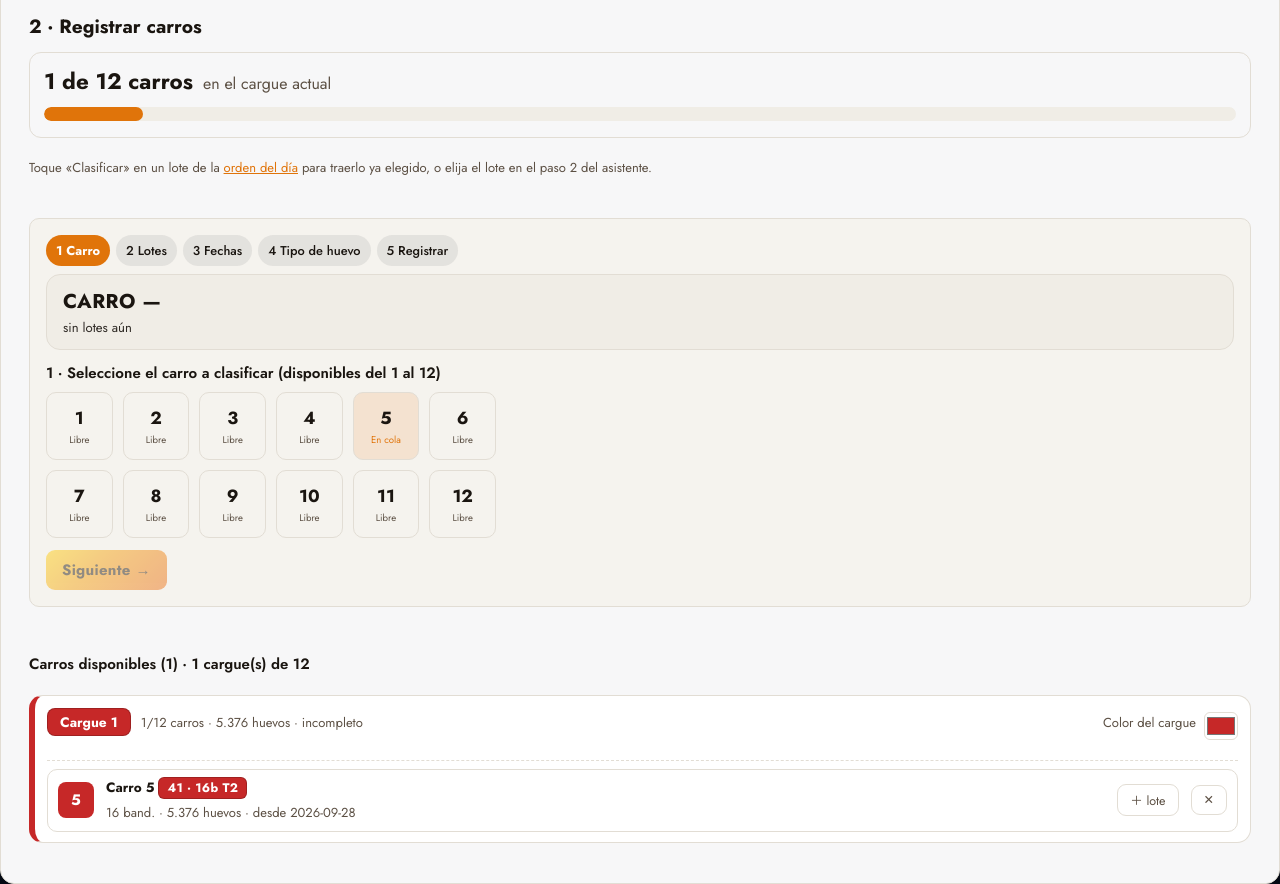
pantalla de clasificación del operario › borrar un carro pide confirmación clara y avisa si la base no lo deja
(page scrolled)
Click the button named "Borrar el carro 5" at (1209, 800), box top-left (1190, 786), bottom-right (1227, 816)
(page scrolled)
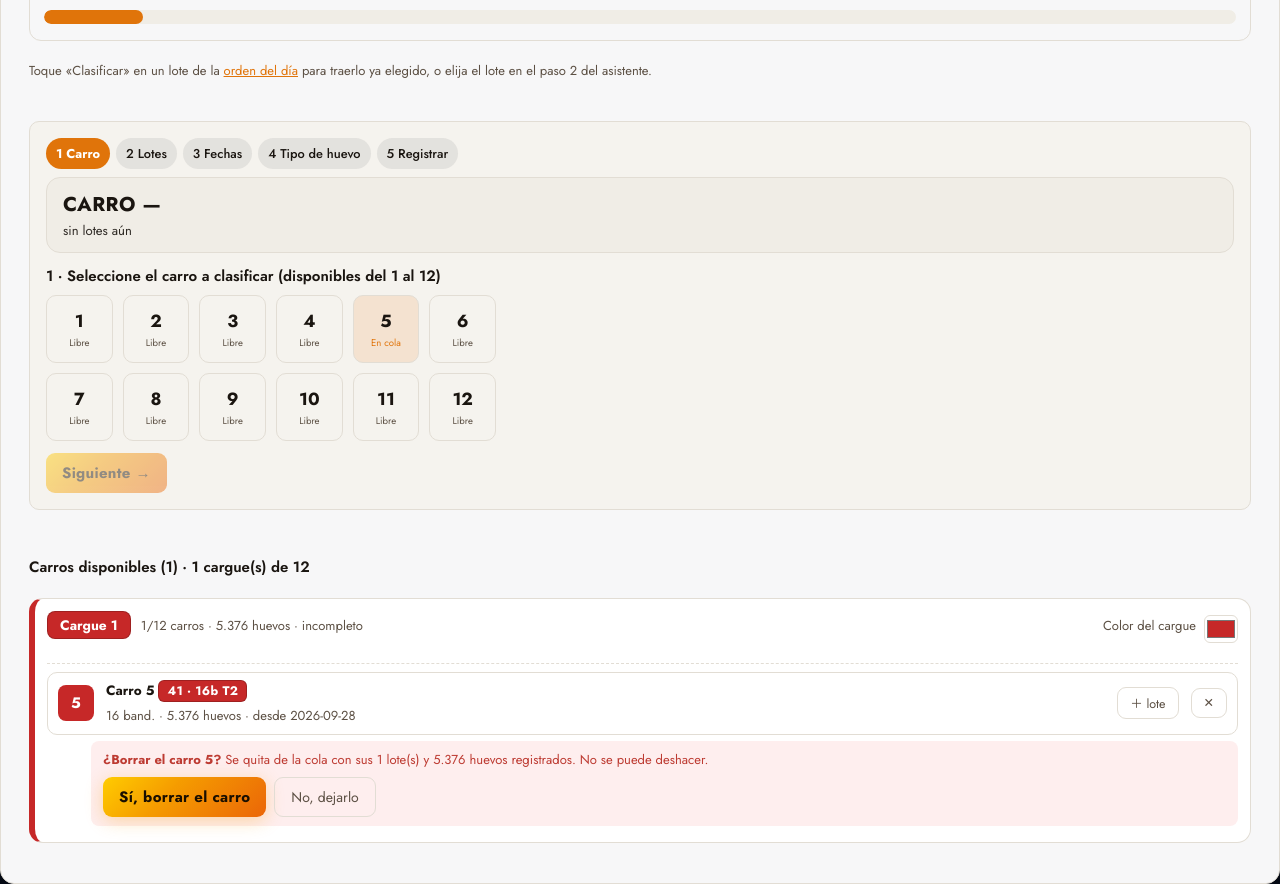
Check: the text "¿Borrar el carro 5?" is shown, box top-left (103, 750), bottom-right (221, 769)
Click the button "Sí, borrar el carro" at (185, 797), box top-left (103, 777), bottom-right (266, 817)
(page scrolled)
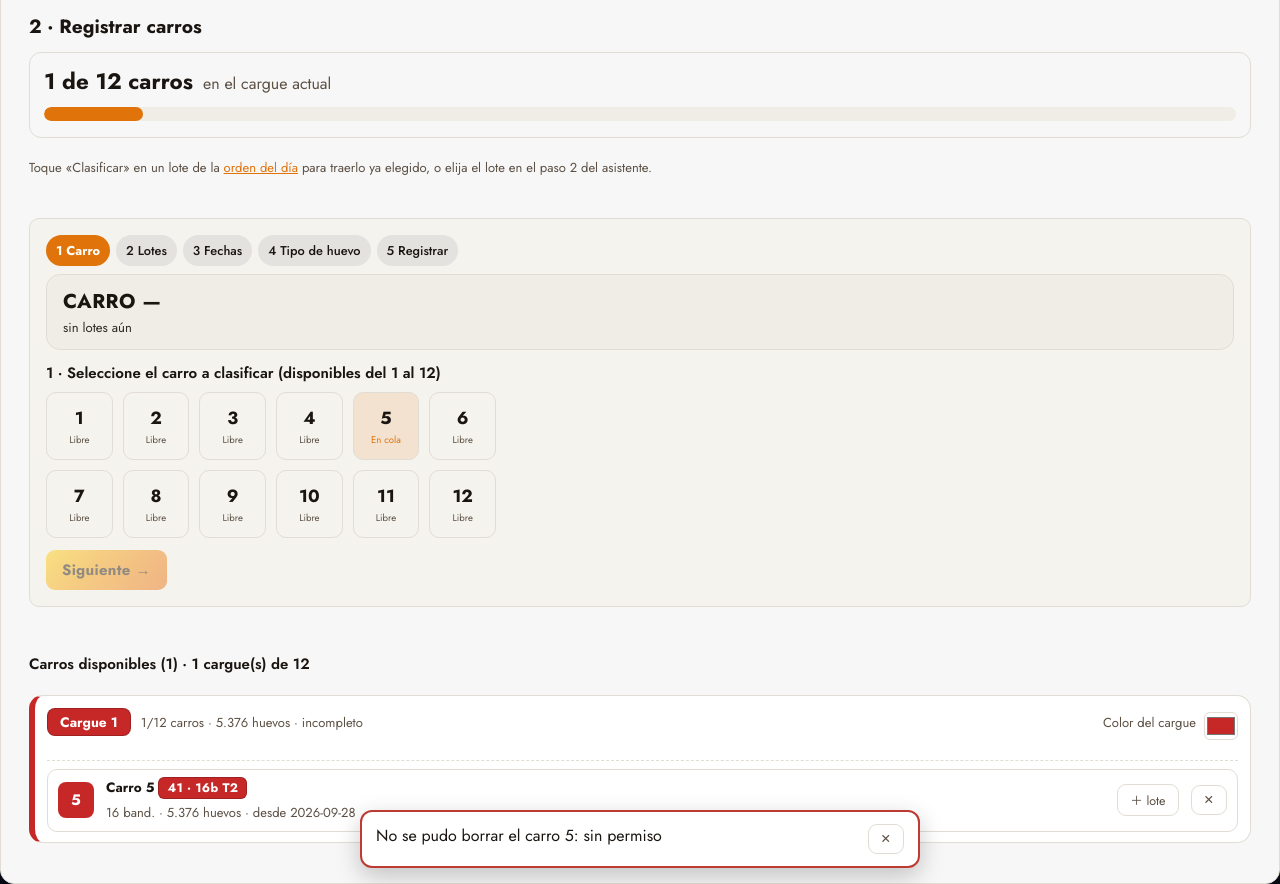
Check: the message with class "cls-toast" shows "No se pudo borrar el carro 5: sin permiso", box top-left (376, 824), bottom-right (662, 847)
